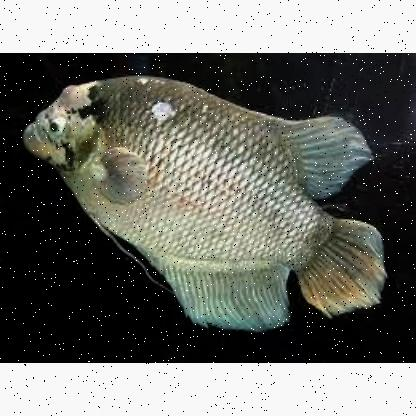gurame: (23, 73, 388, 326)
